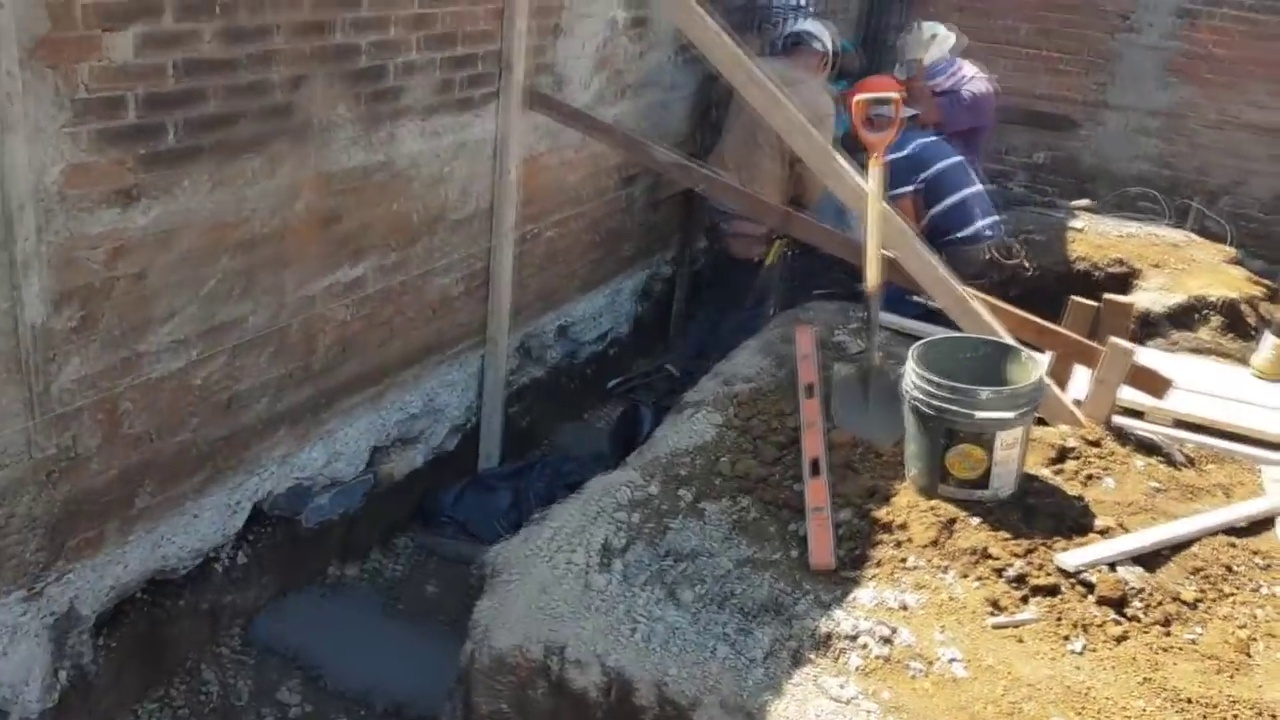helmet: (898, 20, 955, 70), (846, 74, 904, 123), (781, 19, 833, 72)
helmet-on: (846, 74, 920, 143), (896, 21, 962, 87), (771, 18, 833, 76)
person: (668, 6, 849, 346), (844, 76, 1005, 299), (895, 21, 1003, 168)
